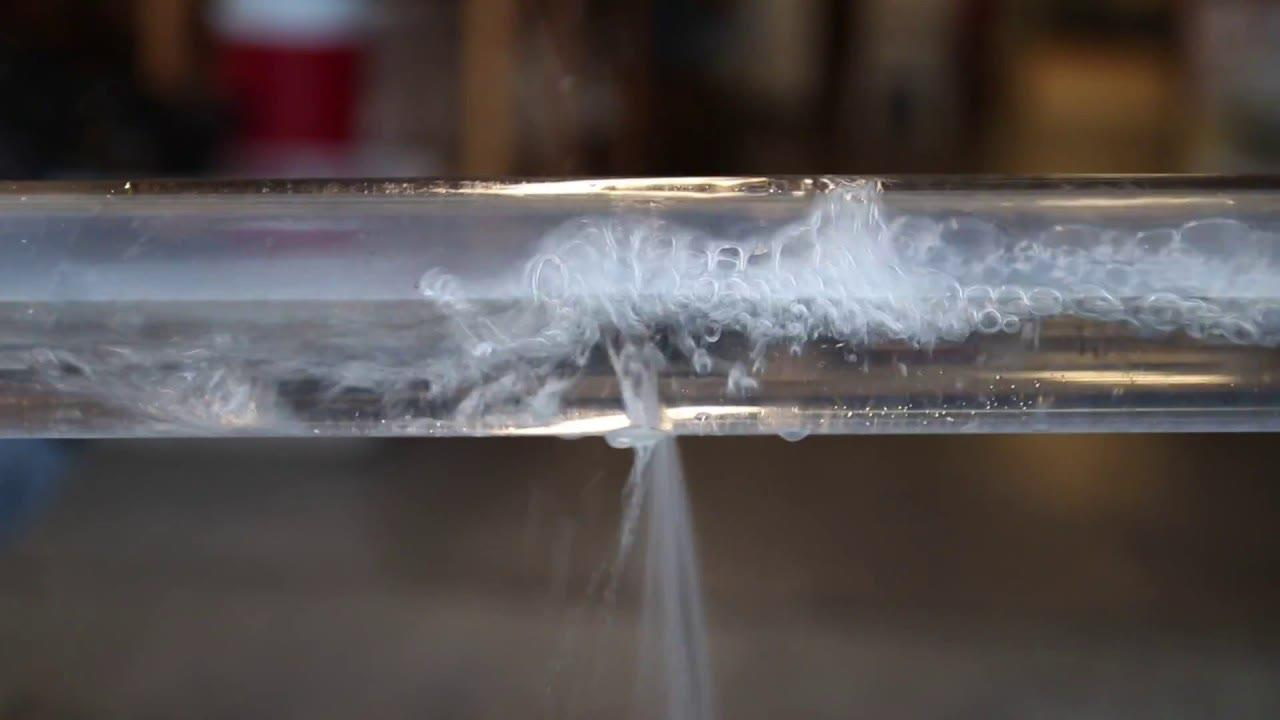pipe burst: (605, 436, 711, 720)
